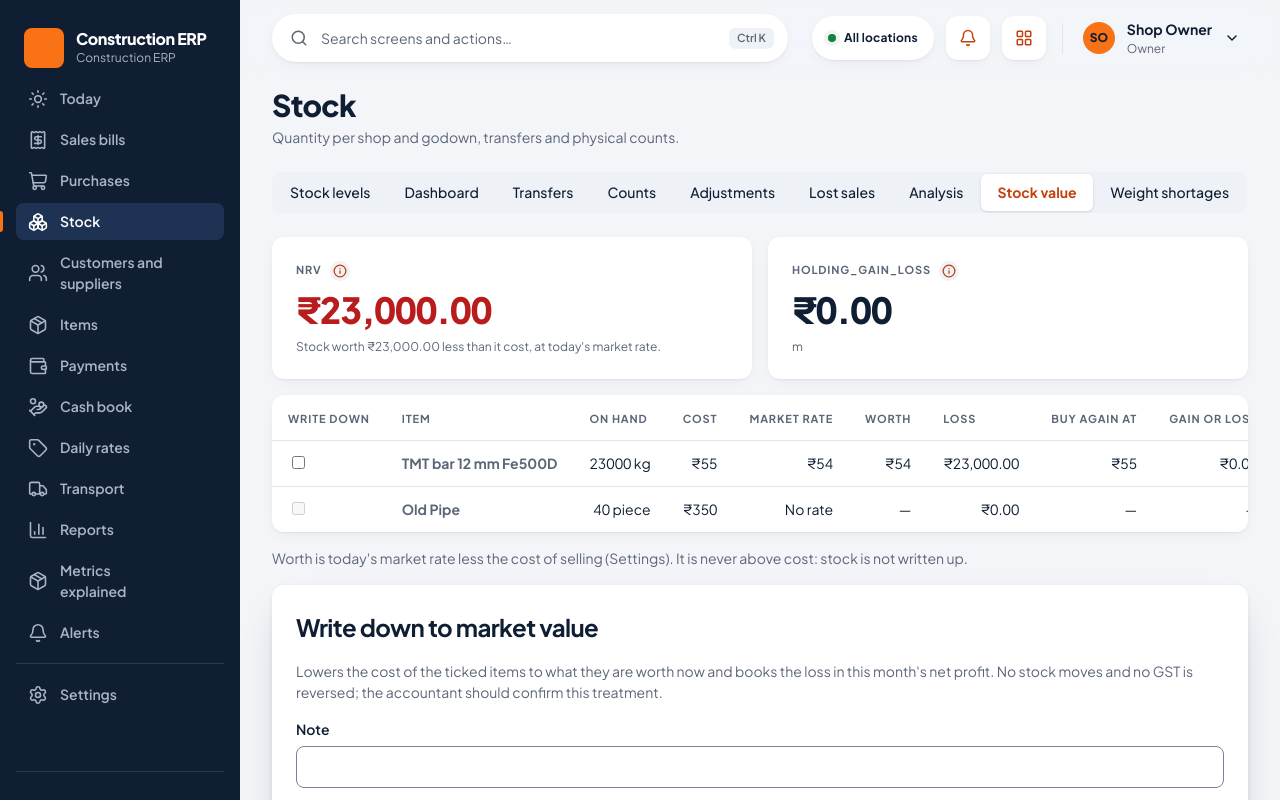
Test case: Stock value › explains a refusal in the shop's words
Expected: the table named "Stock against the market" is shown, [272,395,1248,532]
Step 1. Click the checkbox named "Write down TMT bar 12 mm Fe500D" → [298, 462], box [292,456,305,469]
(page scrolled)
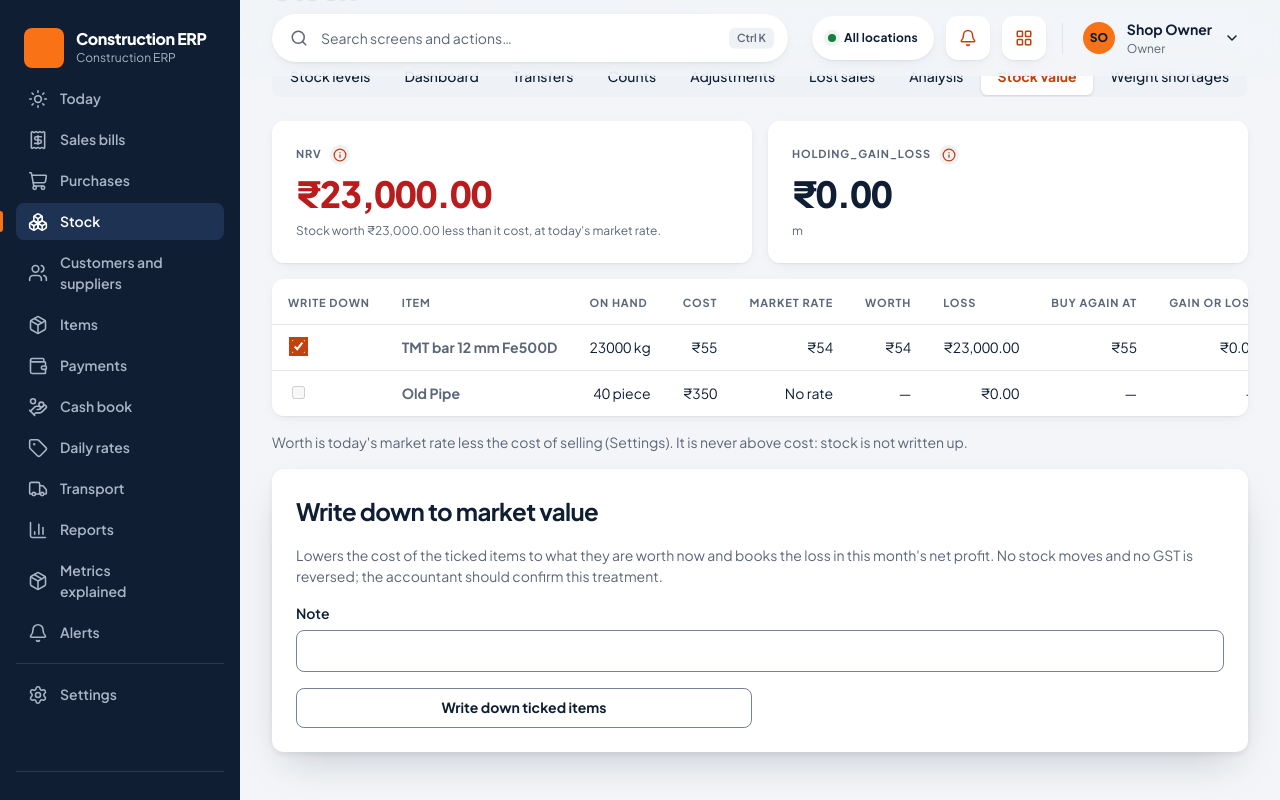
Step 2. Click the button "Write down ticked items" → [524, 708], box [296,688,752,728]
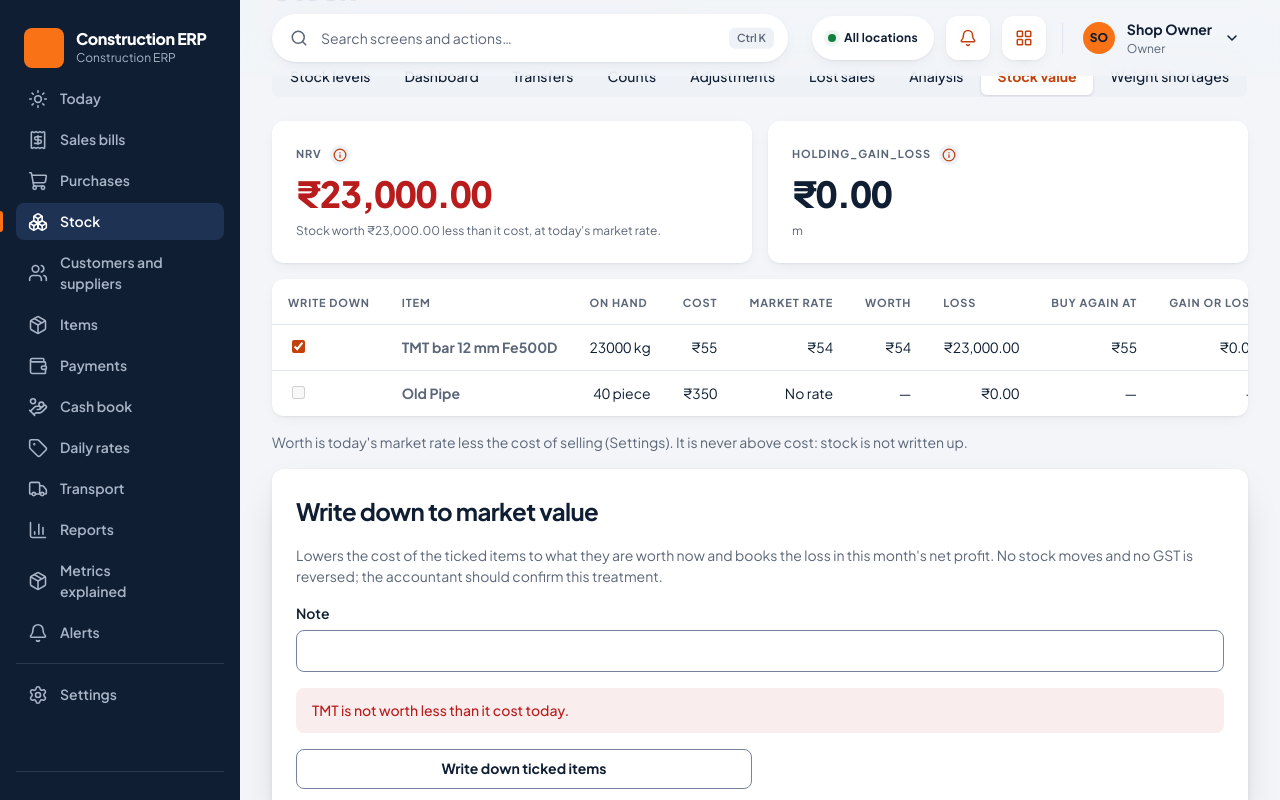
Result: the text "TMT is not worth less than it cost today." is shown at [296,688,1224,733]
